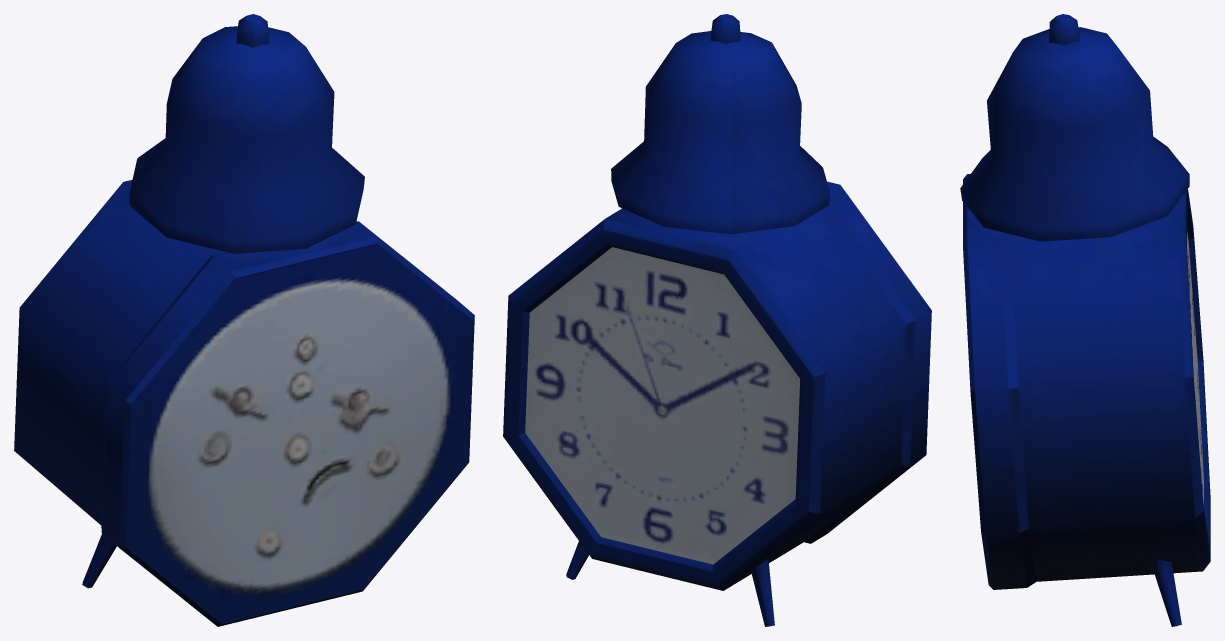
Rendered from furni_0200445.FBX.
3 renders of one model, left to right at view 1: azimuth 30°, elevation 25°; view 2: azimuth 150°, elevation 25°; view 3: azimuth 270°, elevation 25°, orthographic. The views are drawn at different scales.
Parts seen in each view (by area): view 1: furni_0200445; view 2: furni_0200445; view 3: furni_0200445.
Boxes of the visible parts, <box> form: furni_0200445: <box>14,14,474,626</box>; furni_0200445: <box>503,14,931,626</box>; furni_0200445: <box>960,14,1210,626</box>.
Size of the model in its own units: 13.86 by 22.24 by 9.
